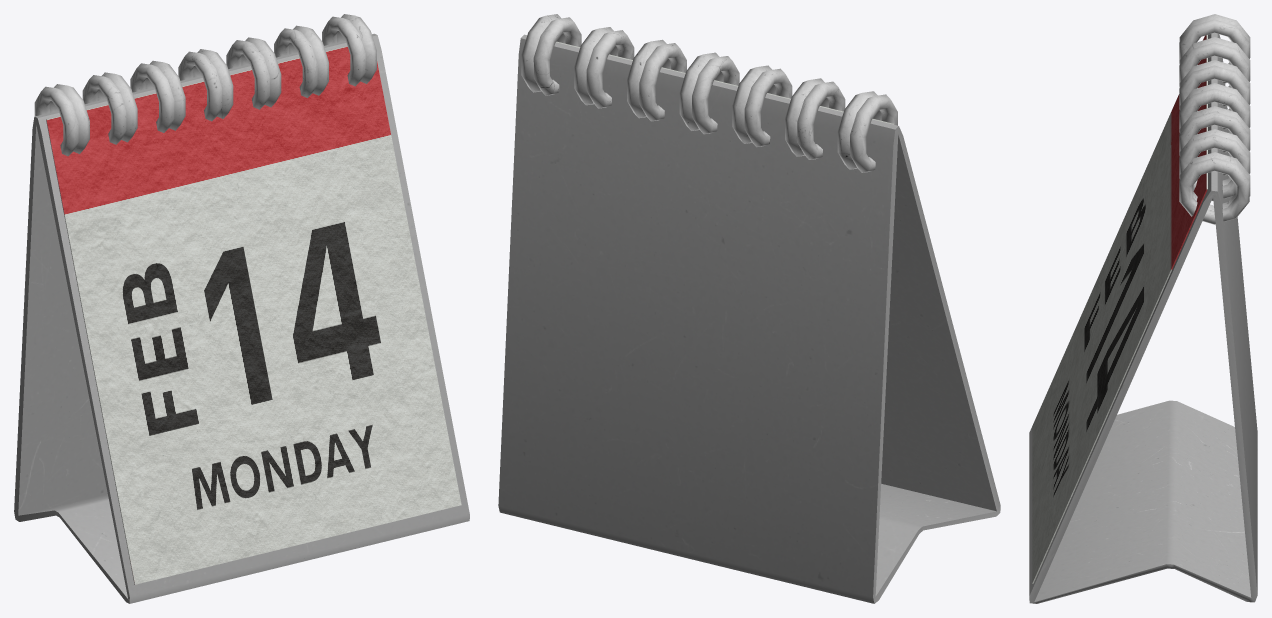
Rendered from Calendar_Daily.gltf.
The picture shows the model from 3 angles, left to right: view 1: azimuth 30°, elevation 25°; view 2: azimuth 150°, elevation 25°; view 3: azimuth 270°, elevation 25°; orthographic projection. The views are drawn at different scales.
Visible parts, largest first — view 1: Cube.001, Cube, Torus.009; view 2: Cube, Torus.009; view 3: Cube, Cube.001, Torus.009.
Boxes of the visible parts, box(x1,y1,x2,y2) form: Cube.001: box(46, 46, 461, 584); Cube: box(14, 33, 469, 603); Torus.009: box(34, 14, 376, 156); Cube: box(498, 34, 1000, 603); Torus.009: box(521, 14, 897, 172); Cube: box(1029, 33, 1257, 603); Cube.001: box(1032, 35, 1207, 583); Torus.009: box(1179, 14, 1250, 224).
Size of the model in its own units: 2.01 by 2.49 by 1.18.
Materials: 4 (4 with a texture image).
